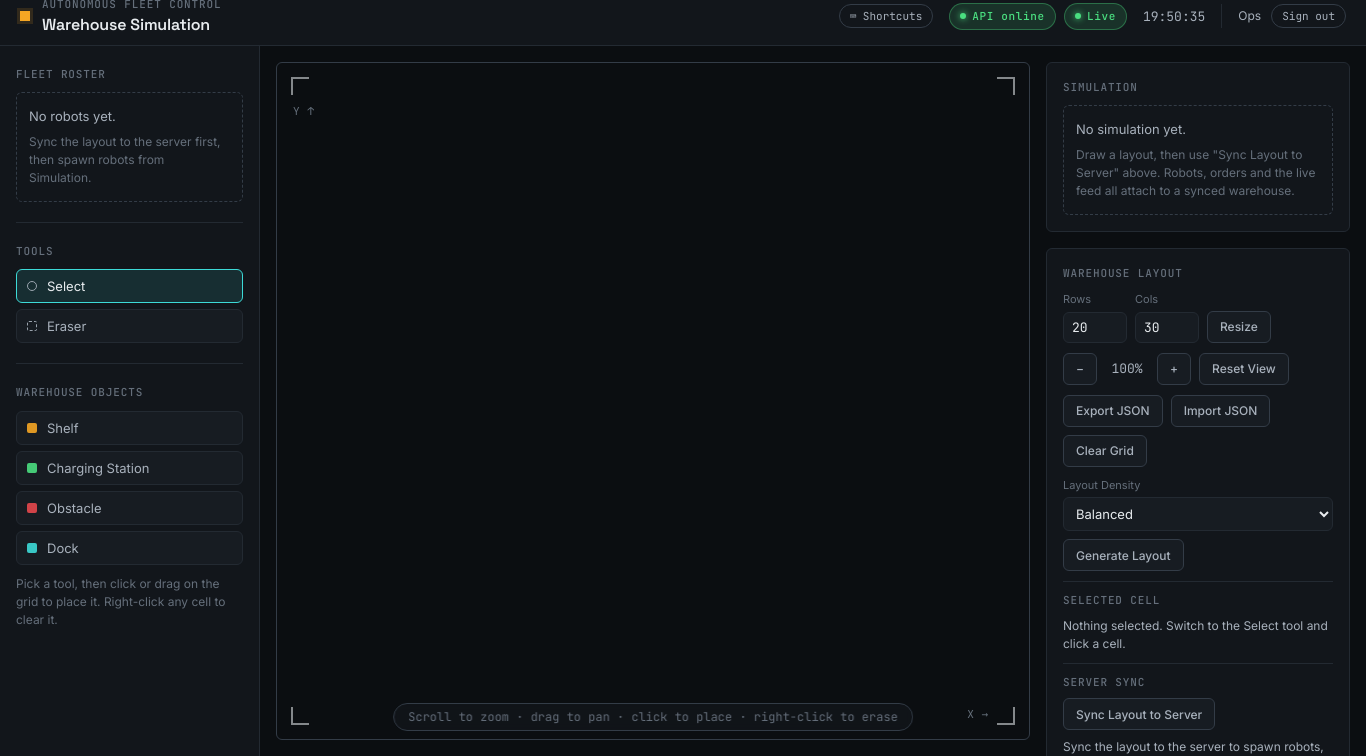
Test: simulation start, updates and stop › surfaces delivery notifications from the live feed
What coordinates should you click on to do the following:
click the button "Sync Layout to Server"
I would click on:
 (1139, 714)
Its box is [1063,698,1215,730].
(page scrolled)
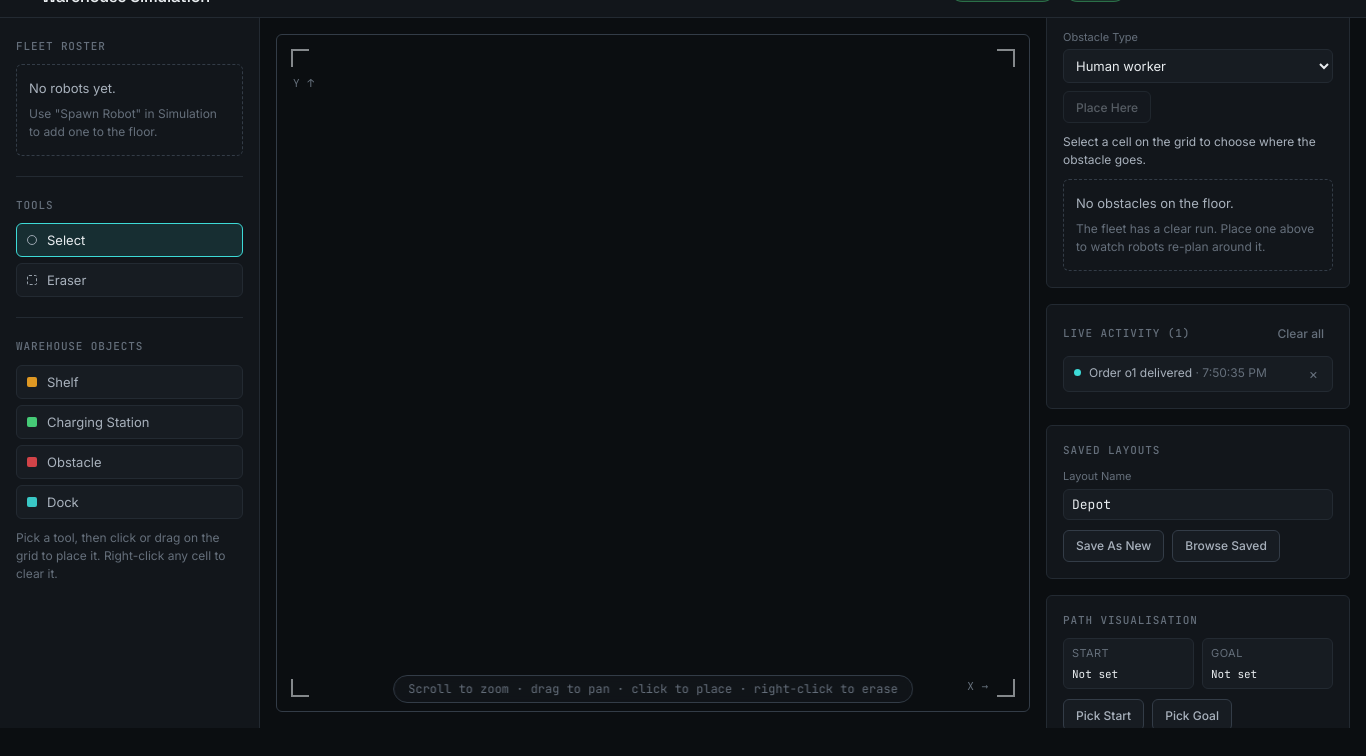
Result: the text "Order o1 delivered · 7:50:35 PM" is shown at [1089,364,1297,381]
